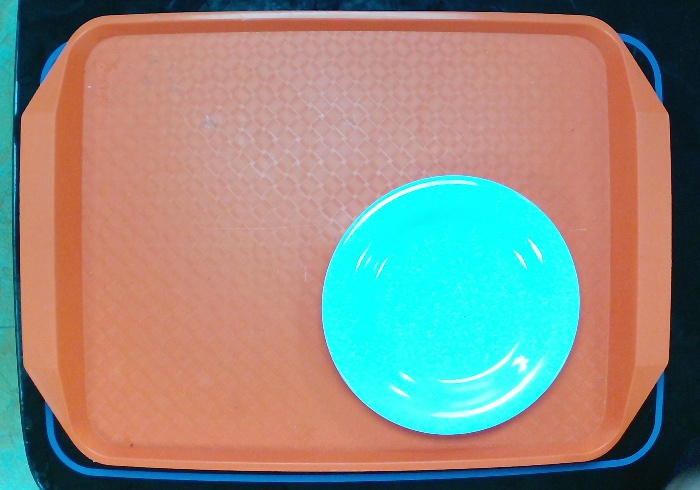RJxy-Yuan_Pan: (307, 166, 592, 439)
